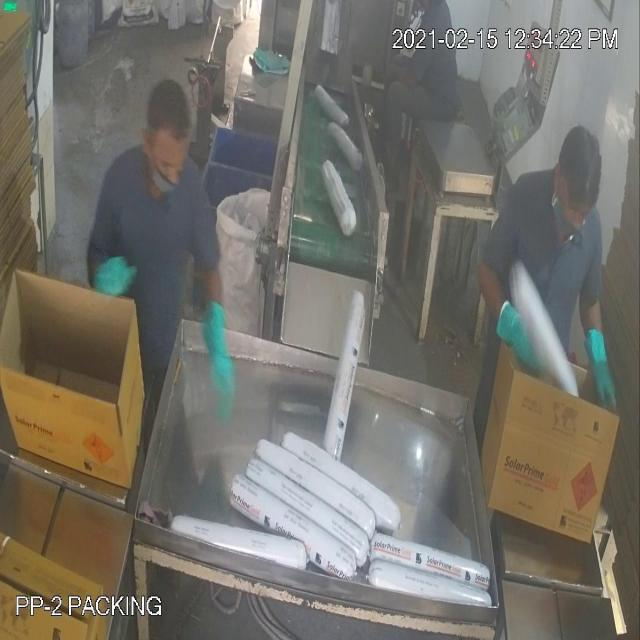Gloves: (34, 74, 598, 368)
